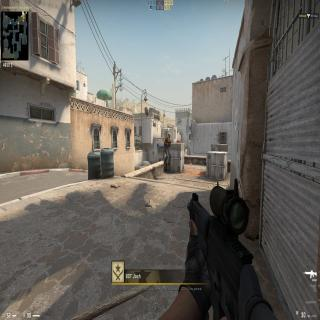T-Head: (168, 132, 171, 138)
